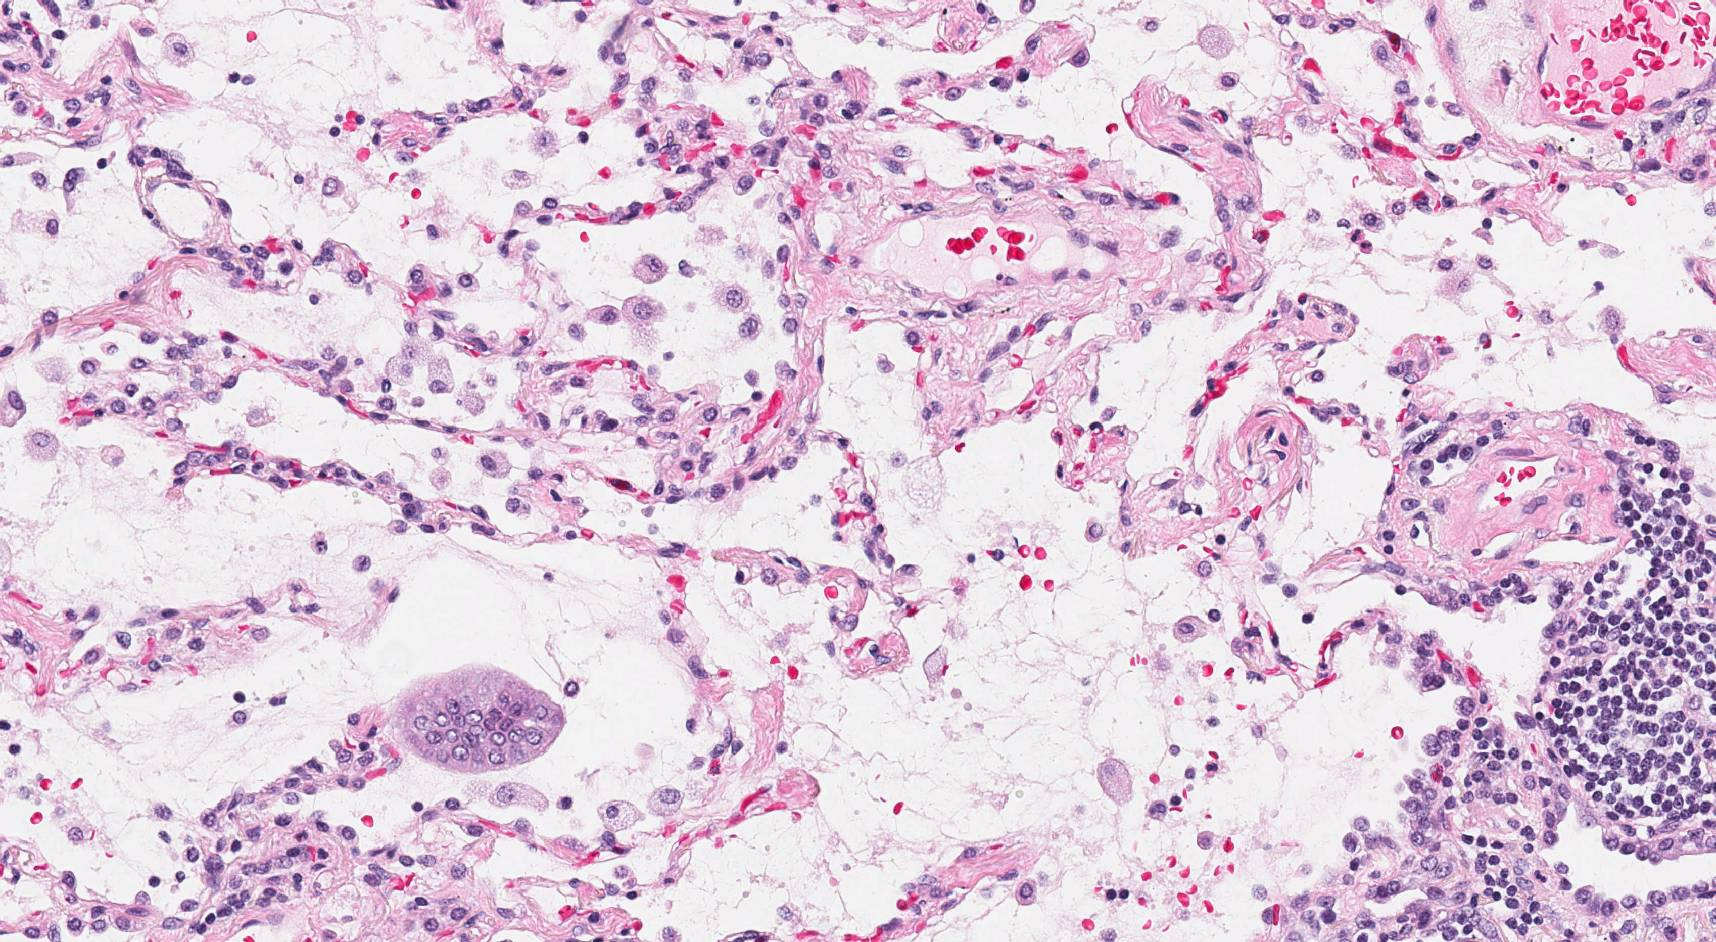stas: (388, 666, 568, 774)
